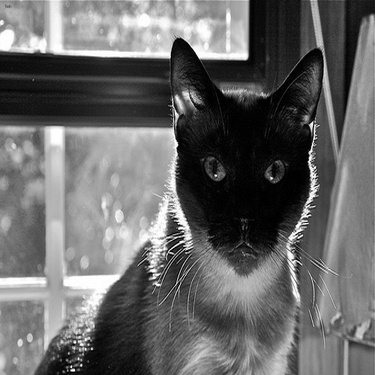cat: (30, 35, 327, 370)
